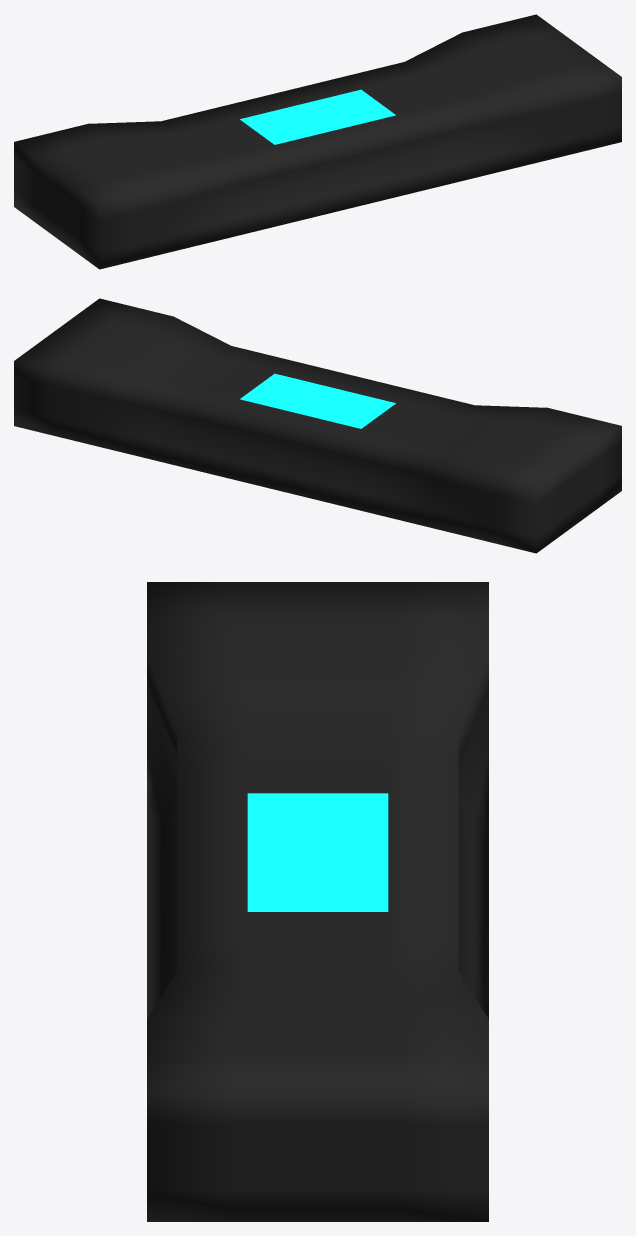
The model's file is Pickup.fbx.
The picture shows the model from 3 angles, top to bottom: view 1: azimuth 30°, elevation 25°; view 2: azimuth 150°, elevation 25°; view 3: azimuth 270°, elevation 25°; orthographic projection. The views are drawn at different scales.
Parts seen in each view (by area): view 1: Cube; view 2: Cube; view 3: Cube.
Part boxes in pixels (<box>): Cube: <box>14,14,621,269</box>; Cube: <box>14,298,621,553</box>; Cube: <box>147,582,488,1221</box>.
Size of the model in its own units: 8.59 by 1.02 by 2.43.
